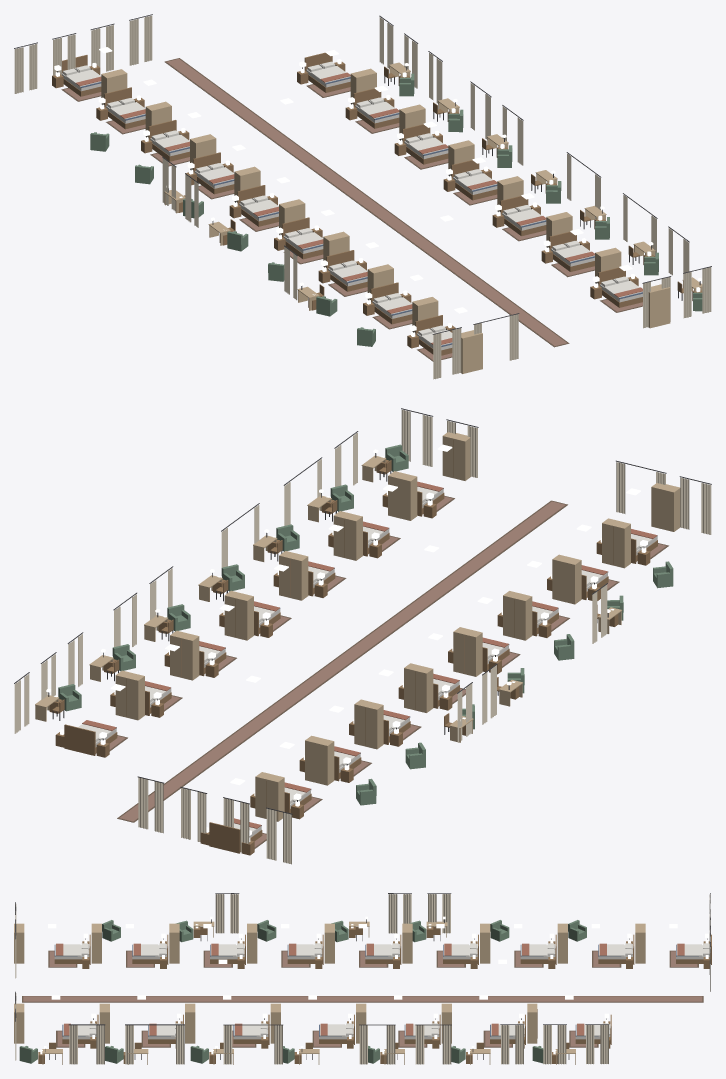
File: fine-s1.glb
The picture shows the model from 3 angles, top to bottom: view 1: azimuth 30°, elevation 25°; view 2: azimuth 150°, elevation 25°; view 3: azimuth 270°, elevation 25°; orthographic projection. The views are drawn at different scales.
Parts seen in each view (by area): view 1: soft-s1, dresser.006, dresser.015, bed-frame.002, bed-frame.003, bed-frame.000, bed-frame.001, bed-frame.004, bed-frame.005, bed-frame.014, bed-frame.006, bed-frame.013 (+18 smaller); view 2: soft-s1, dresser.009, dresser.008, dresser.011, dresser.013, dresser.012, dresser.010, dresser.015, dresser.014, dresser.001, dresser.003, dresser.000 (+7 smaller); view 3: soft-s1, dresser.007, dresser.010, dresser.013, dresser.000, dresser.004, dresser.008, dresser.009, dresser.011, dresser.012, dresser.014, dresser.015 (+19 smaller).
Part boxes in pixels (box(x1,y1,x2,y2)): soft-s1: box(14, 14, 711, 379); dresser.006: box(648, 284, 670, 328); dresser.015: box(461, 330, 482, 373); bed-frame.002: box(402, 124, 448, 164); bed-frame.003: box(451, 160, 497, 200); bed-frame.000: box(304, 52, 350, 92); bed-frame.001: box(353, 88, 399, 128); bed-frame.004: box(500, 196, 546, 236); bed-frame.005: box(549, 231, 594, 271); bed-frame.014: box(370, 282, 412, 324); bed-frame.006: box(598, 267, 642, 307); bed-frame.013: box(326, 250, 367, 291); soft-s1: box(14, 408, 711, 864); dresser.009: box(354, 699, 383, 749); dresser.008: box(305, 735, 334, 785); dresser.011: box(453, 627, 482, 676); dresser.013: box(552, 554, 581, 604); dresser.012: box(503, 591, 532, 640); dresser.010: box(404, 663, 433, 712); dresser.015: box(651, 483, 680, 531); dresser.014: box(602, 518, 630, 568); dresser.001: box(170, 630, 199, 680); dresser.003: box(279, 551, 308, 600); dresser.000: box(115, 670, 144, 720); soft-s1: box(15, 893, 710, 1064); dresser.007: box(635, 923, 645, 963); dresser.010: box(402, 923, 412, 963); dresser.013: box(169, 923, 179, 963); dresser.000: box(527, 1003, 537, 1043); dresser.004: box(185, 1003, 195, 1043); dresser.008: box(557, 923, 567, 963); dresser.009: box(480, 923, 490, 963); dresser.011: box(324, 923, 334, 963); dresser.012: box(247, 923, 257, 963); dresser.014: box(91, 923, 101, 963); dresser.015: box(14, 923, 24, 963).
Bounding box in the file's own units: 18.16 × 2.61 × 40.63.
